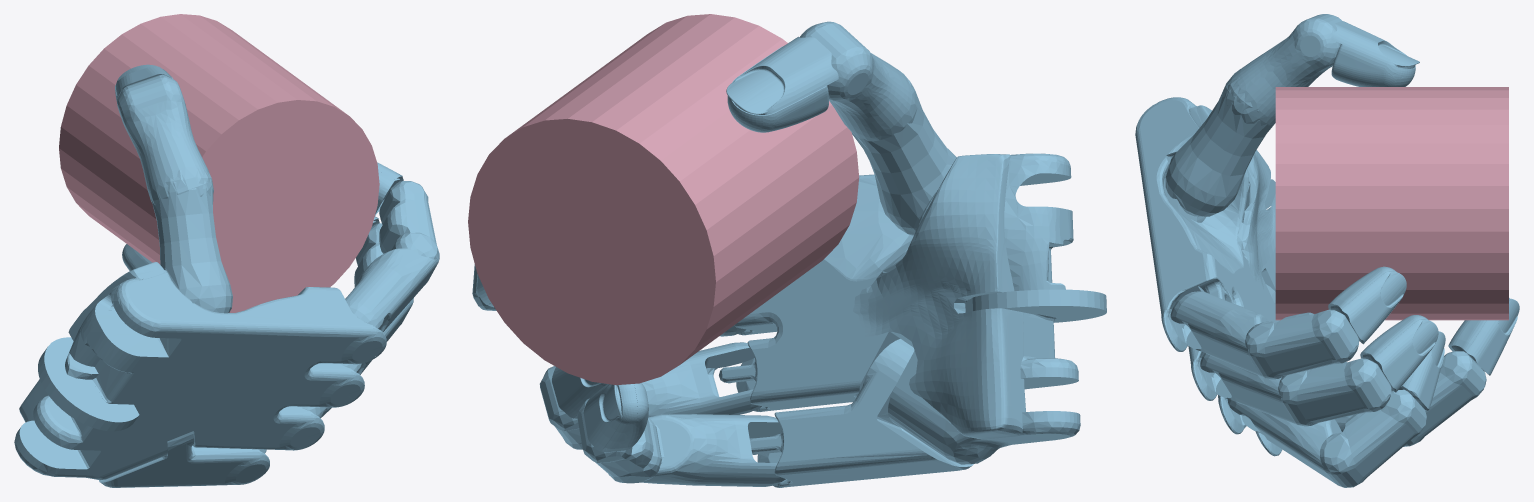
3 renders of one model, left to right at view 1: azimuth 30°, elevation 25°; view 2: azimuth 150°, elevation 25°; view 3: azimuth 270°, elevation 25°, orthographic. The views are drawn at different scales.
Visible parts, largest first — view 1: world; view 2: world; view 3: world.
Part boxes in pixels (x1,y1,x2,y2): world: (14,14,439,487); world: (468,14,1106,487); world: (1135,14,1519,487).
Bounding box in the file's own units: 0.1748 × 0.1534 × 0.1317.
